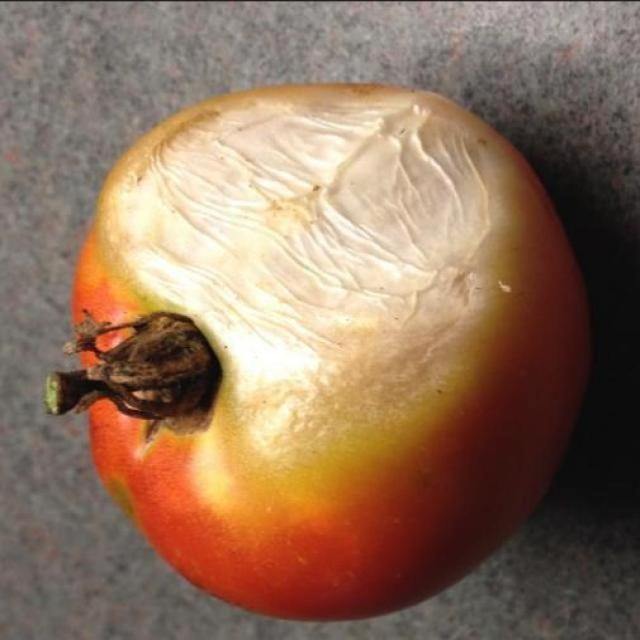Sunscald Fruit: (62, 52, 358, 308)
